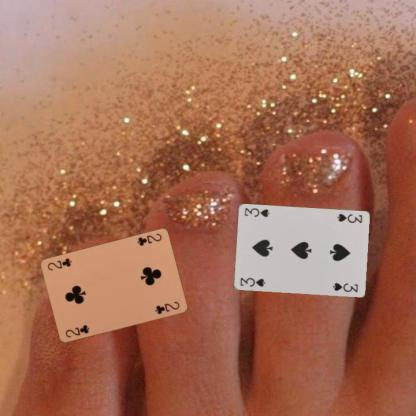2c: (62, 322, 91, 340), (135, 231, 163, 247)
3s: (237, 275, 266, 288), (334, 212, 363, 224)
